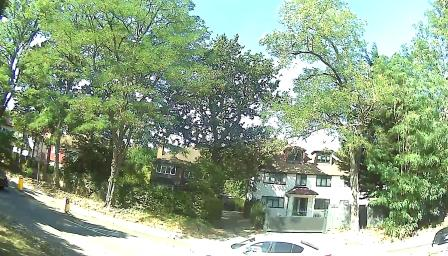Cars: (200, 237, 325, 256), (429, 222, 448, 252)
